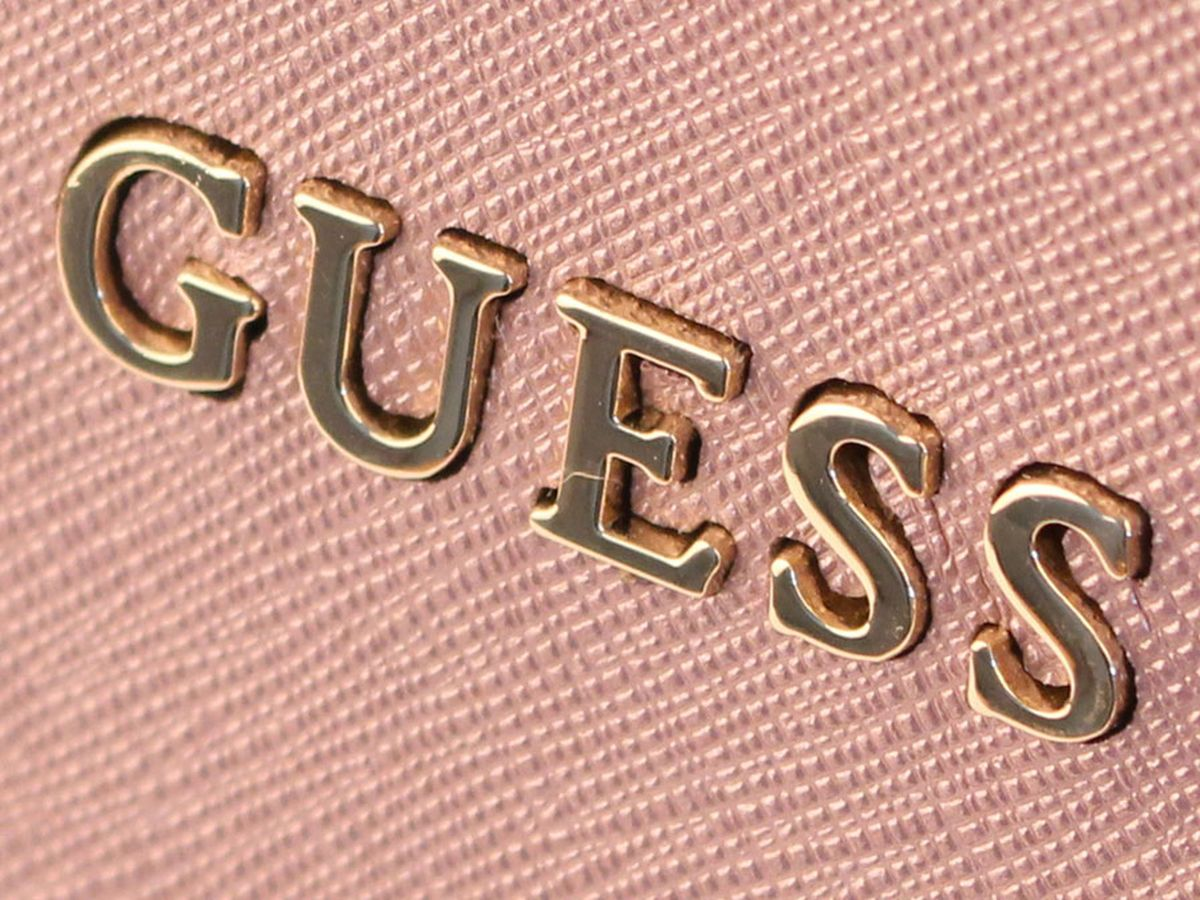Guess: (45, 85, 1163, 764)
